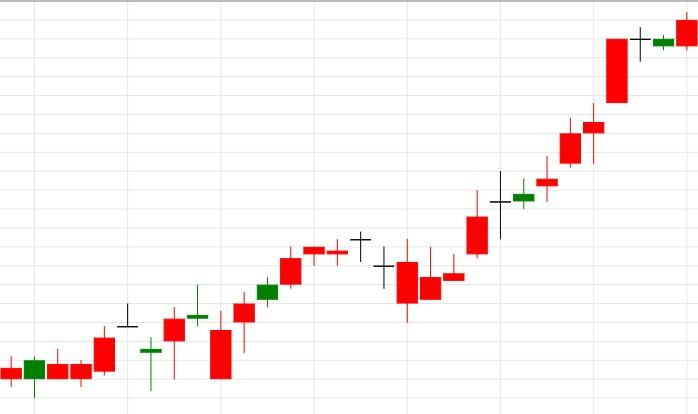evening_star_fall: (396, 27, 675, 323)
